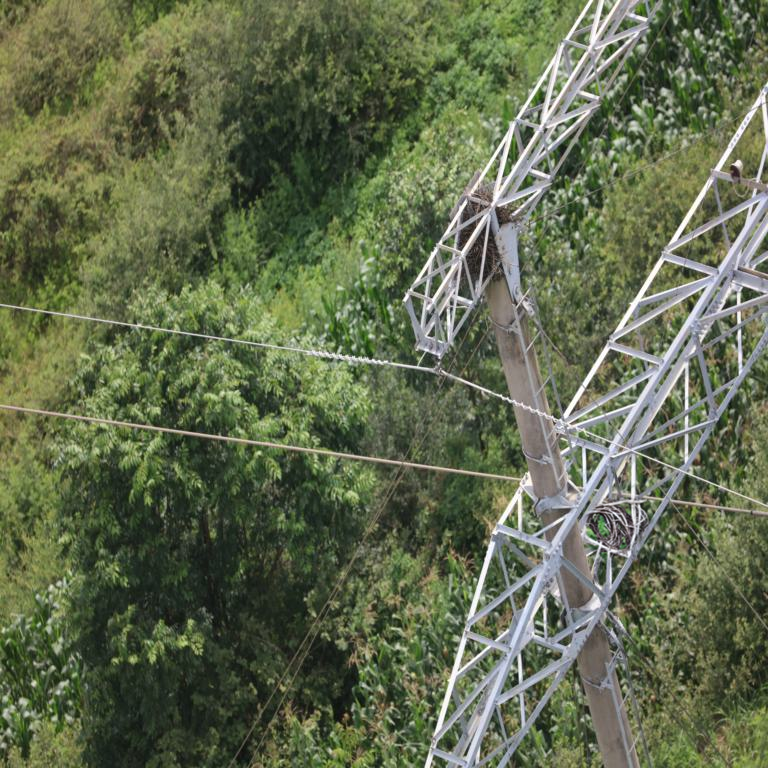nest: (460, 194, 514, 273), (586, 502, 631, 548)
